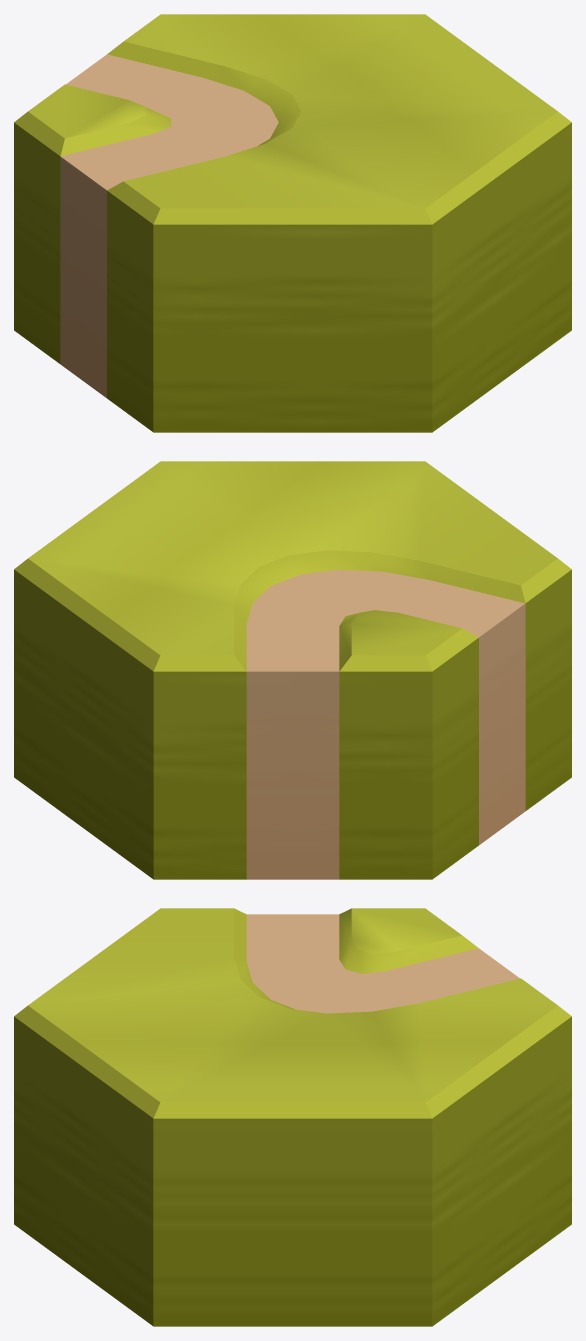
The model's file is hex-road-c.glb.
The picture shows the model from 3 angles, top to bottom: view 1: azimuth 30°, elevation 25°; view 2: azimuth 150°, elevation 25°; view 3: azimuth 270°, elevation 25°; orthographic projection.
Parts seen in each view (by area): view 1: hex_road_C; view 2: hex_road_C; view 3: hex_road_C.
Boxes of the visible parts, x1=… form: hex_road_C: x1=14, y1=14, x2=571, y2=432; hex_road_C: x1=14, y1=461, x2=571, y2=879; hex_road_C: x1=14, y1=908, x2=571, y2=1326.
Bounding box in the file's own units: 2 × 1 × 2.31.
1 material, 1 textured.
